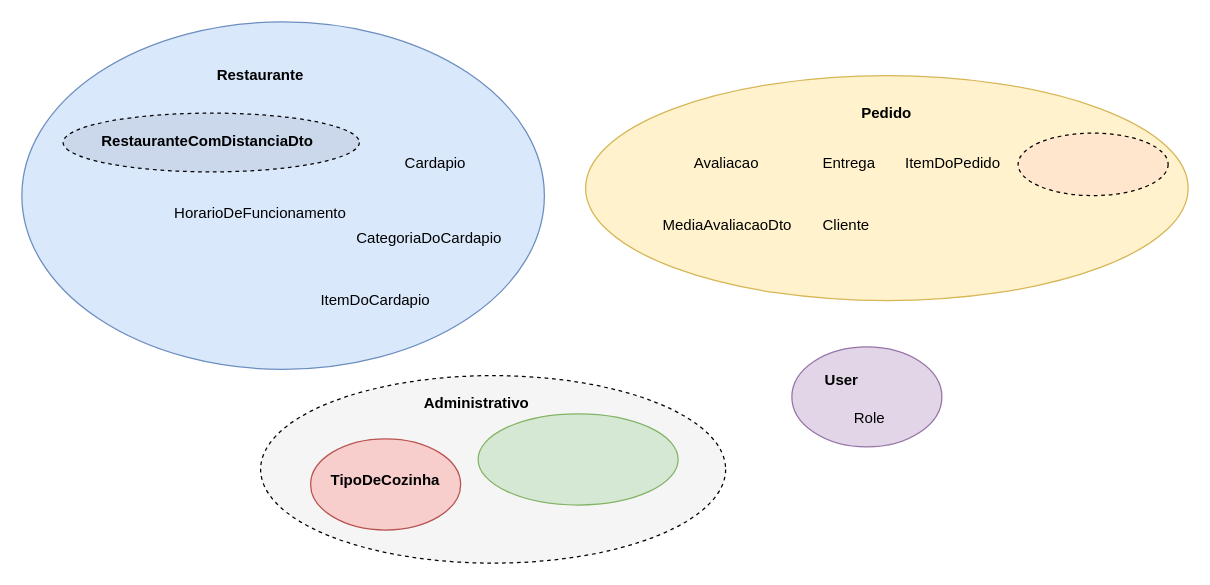
The diagram is 1210 pixels wide and 585 high, and some of its shapes have lost their labels. Each missing label, with the centre of its shape:
"FormaDePagamento" goes at (x=577, y=458).
"Pagamento" goes at (x=1092, y=164).
